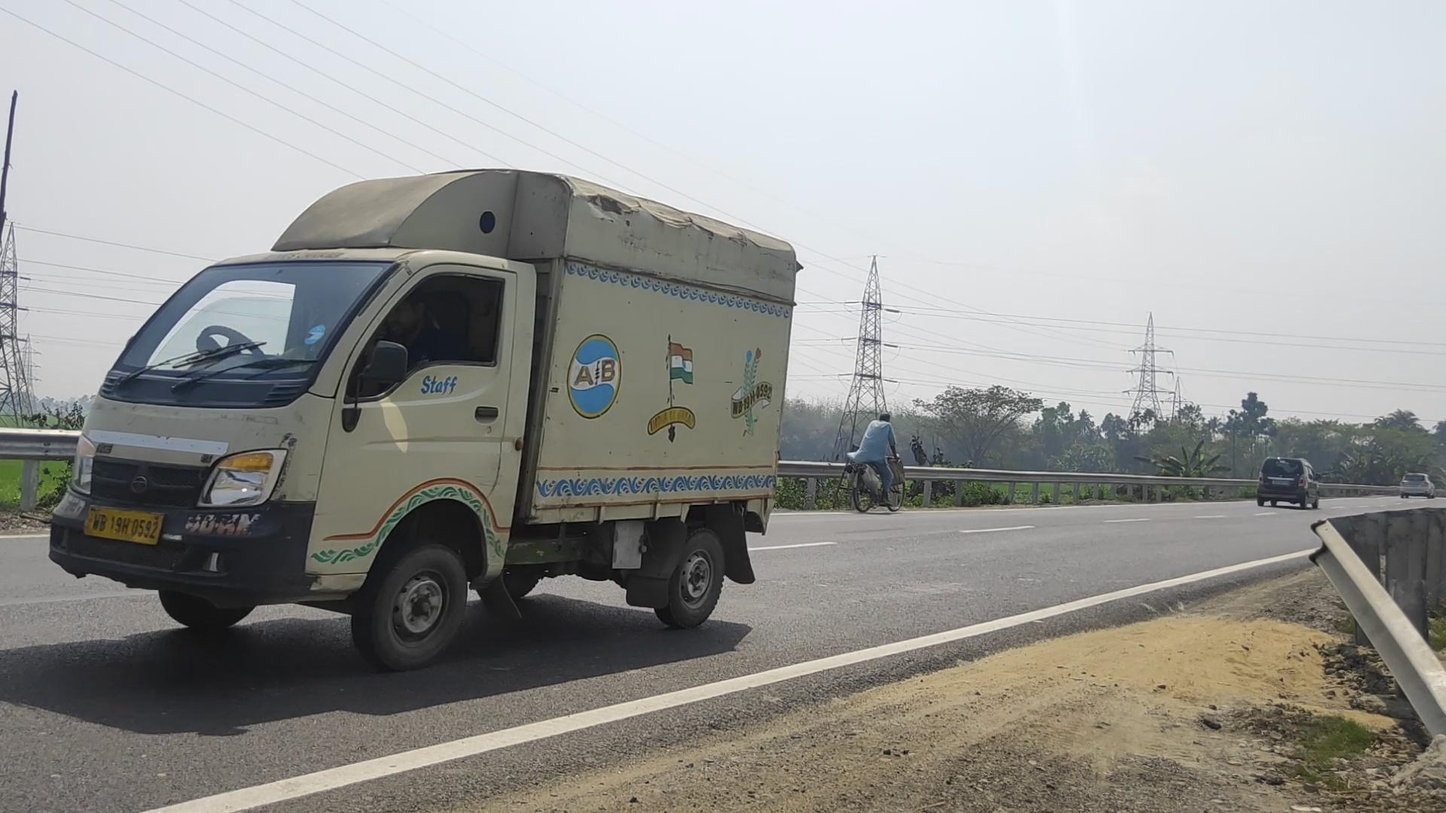bike: (844, 413, 905, 513)
car: (1257, 457, 1319, 510), (1400, 473, 1435, 499)
van: (47, 169, 807, 674)
